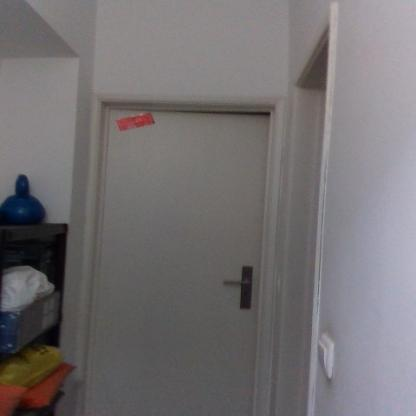closed: (65, 66, 304, 411)
